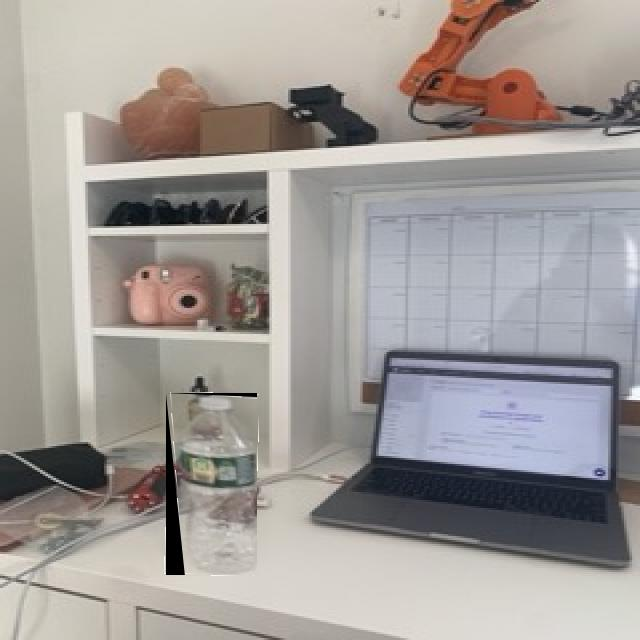water_bottle: (166, 393, 257, 575)
